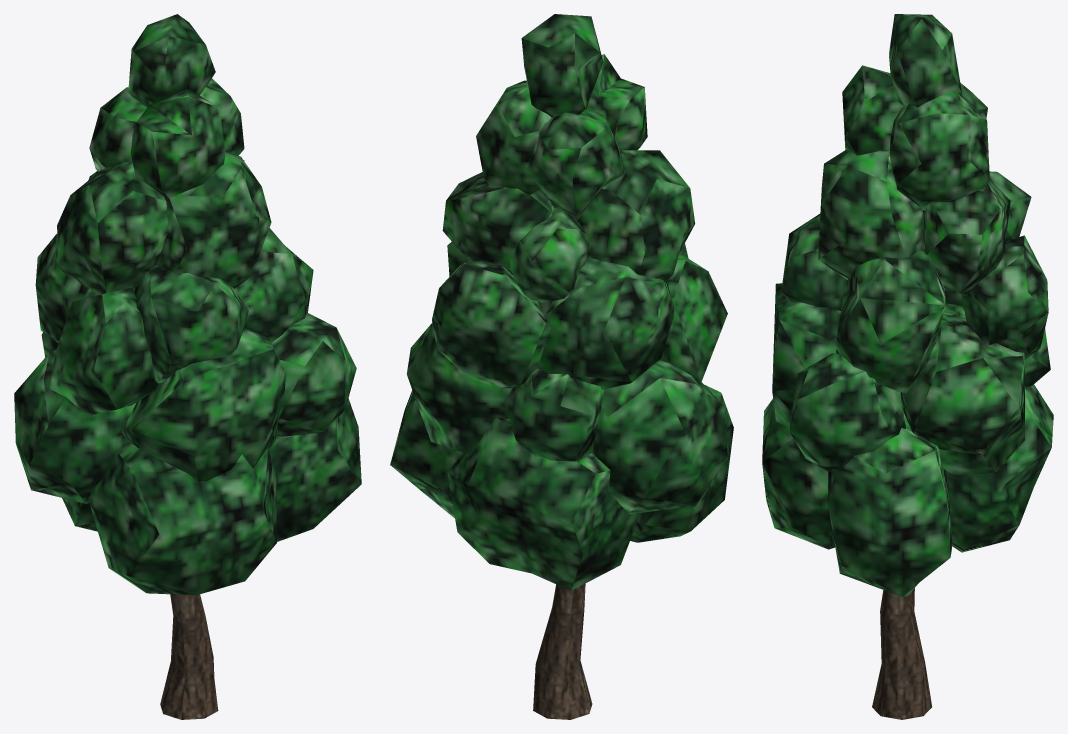
Rendered from Tree1.fbx.
3 renders of one model, left to right at view 1: azimuth 30°, elevation 25°; view 2: azimuth 150°, elevation 25°; view 3: azimuth 270°, elevation 25°, orthographic. The views are drawn at different scales.
Parts seen in each view (by area): view 1: tree_01; view 2: tree_01; view 3: tree_01.
Part boxes in pixels (left/top/right/bottom): tree_01: left=14, top=14, right=361, bottom=719; tree_01: left=390, top=14, right=733, bottom=719; tree_01: left=762, top=14, right=1053, bottom=719.
Bounding box in the file's own units: 2.31 × 4.7 × 1.8.
